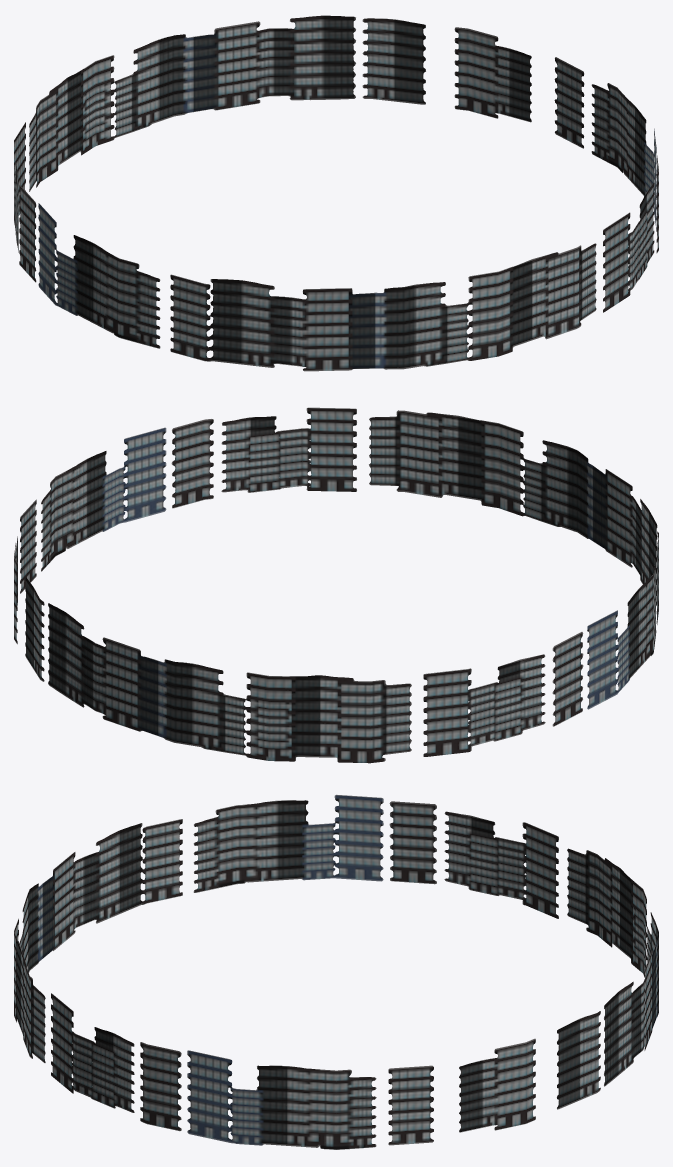
File: wall.fbx
3 renders of one model, top to bottom at view 1: azimuth 30°, elevation 25°; view 2: azimuth 150°, elevation 25°; view 3: azimuth 270°, elevation 25°, orthographic.
Parts seen in each view (by area): view 1: pCylinder1; view 2: pCylinder1; view 3: pCylinder1.
Boxes of the visible parts, x1,y1,x2,y2 form: pCylinder1: (14,15,658,371); pCylinder1: (14,407,658,763); pCylinder1: (14,794,658,1149).
Size of the model in its own units: 20 by 3 by 20.
